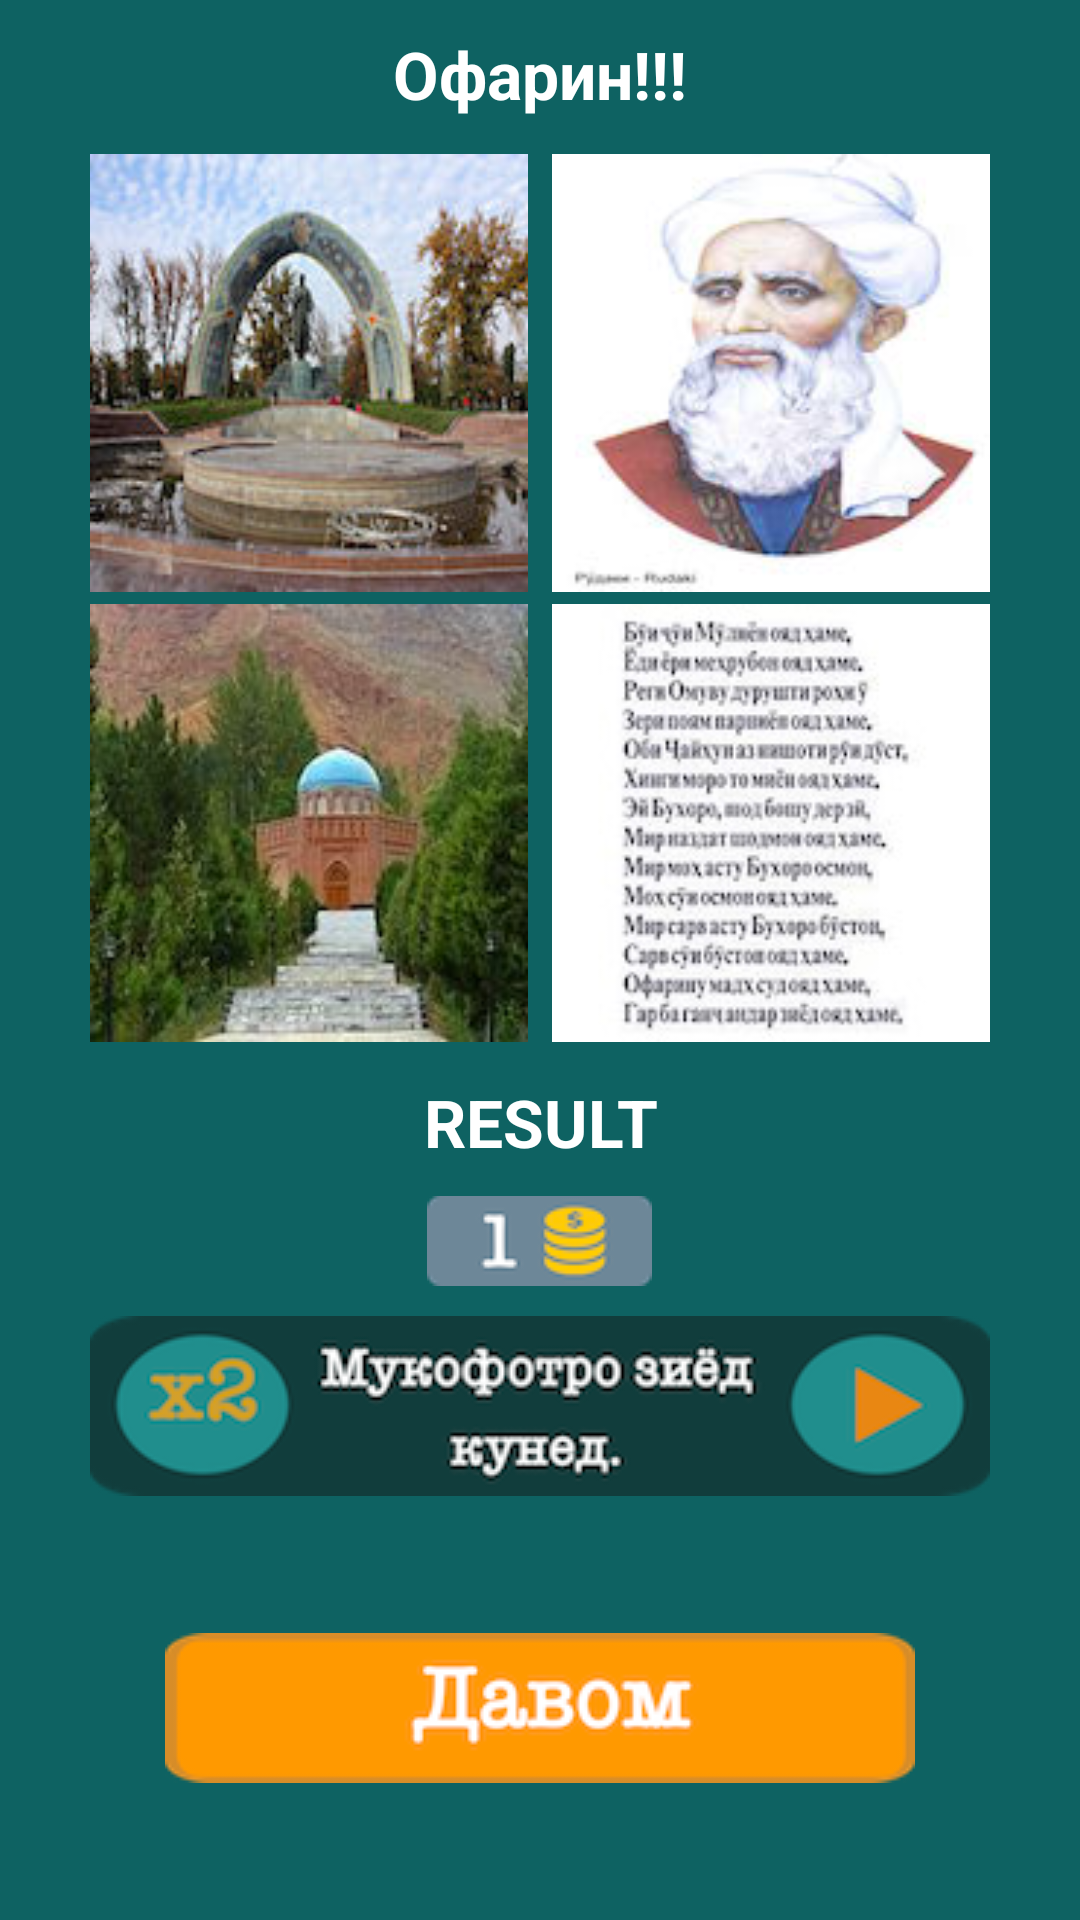

Named icons in this screenshot (1080px x 1920px) and their centers, point (x, y):
reward coin: point (539, 1241)
